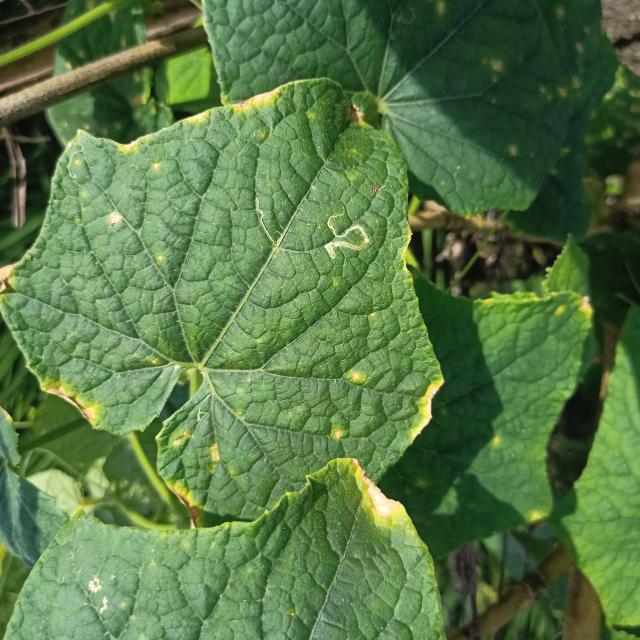disease_cucumber: (164, 424, 223, 508), (112, 138, 164, 172), (346, 365, 365, 385), (108, 210, 124, 227), (331, 425, 345, 441)
